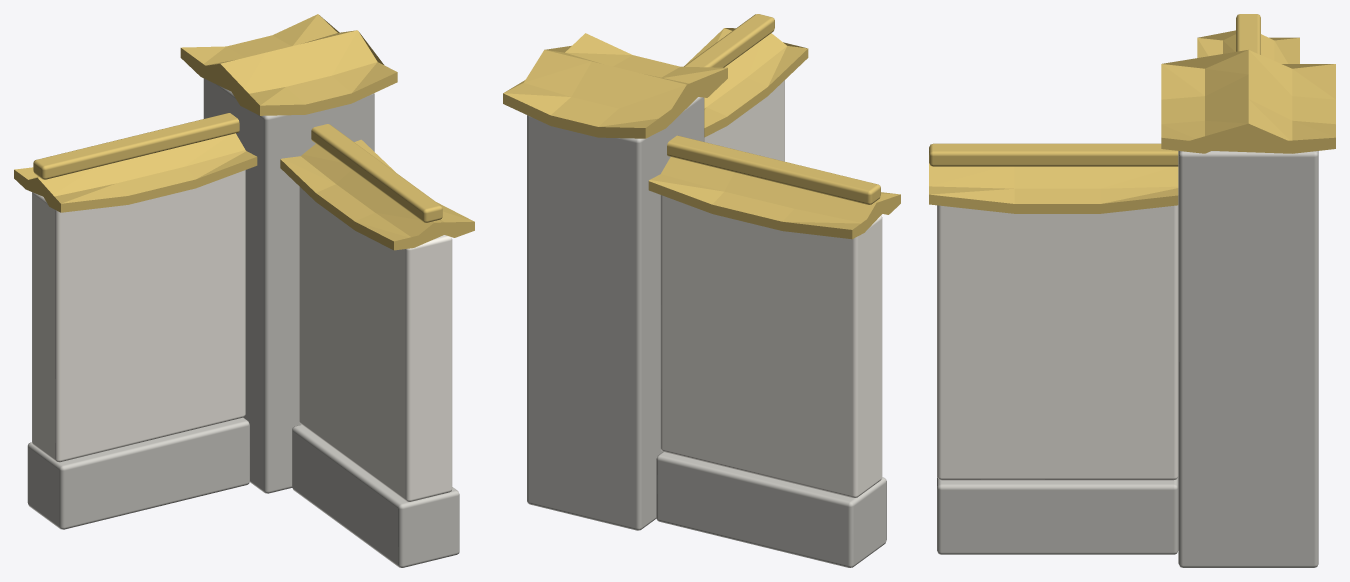
The model's file is wall-corner.glb.
3 views of the same model, side by side, from view 1: azimuth 30°, elevation 25°; view 2: azimuth 150°, elevation 25°; view 3: azimuth 270°, elevation 25° (orthographic). The views are drawn at different scales.
Parts seen in each view (by area): view 1: palace-wall-corner; view 2: palace-wall-corner; view 3: palace-wall-corner.
Part boxes in pixels (x1,y1,x2,y2): palace-wall-corner: (14,14,474,567); palace-wall-corner: (503,14,900,567); palace-wall-corner: (929,14,1335,567).
Bounding box in the file's own units: 2.61 × 3.21 × 2.61.
